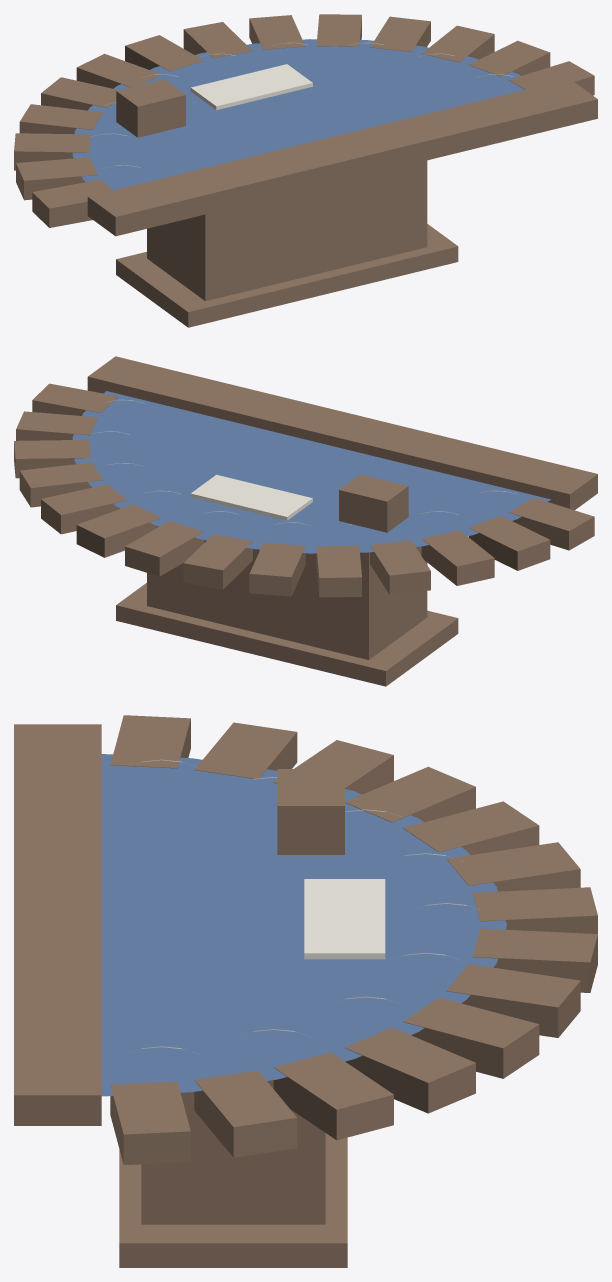
File: casino-floor-and-back-rooms-baccarat-table-da692cc7__27006.glb
3 renders of one model, top to bottom at view 1: azimuth 30°, elevation 25°; view 2: azimuth 150°, elevation 25°; view 3: azimuth 270°, elevation 25°, orthographic. The views are drawn at different scales.
Parts seen in each view (by area): view 1: baccarat-table; view 2: baccarat-table; view 3: baccarat-table.
Part boxes in pixels (x1,y1,x2,y2): baccarat-table: (14,14,597,327); baccarat-table: (14,356,597,686); baccarat-table: (14,715,597,1267).
Bounding box in the file's own units: 2.94 × 0.95 × 1.73.
